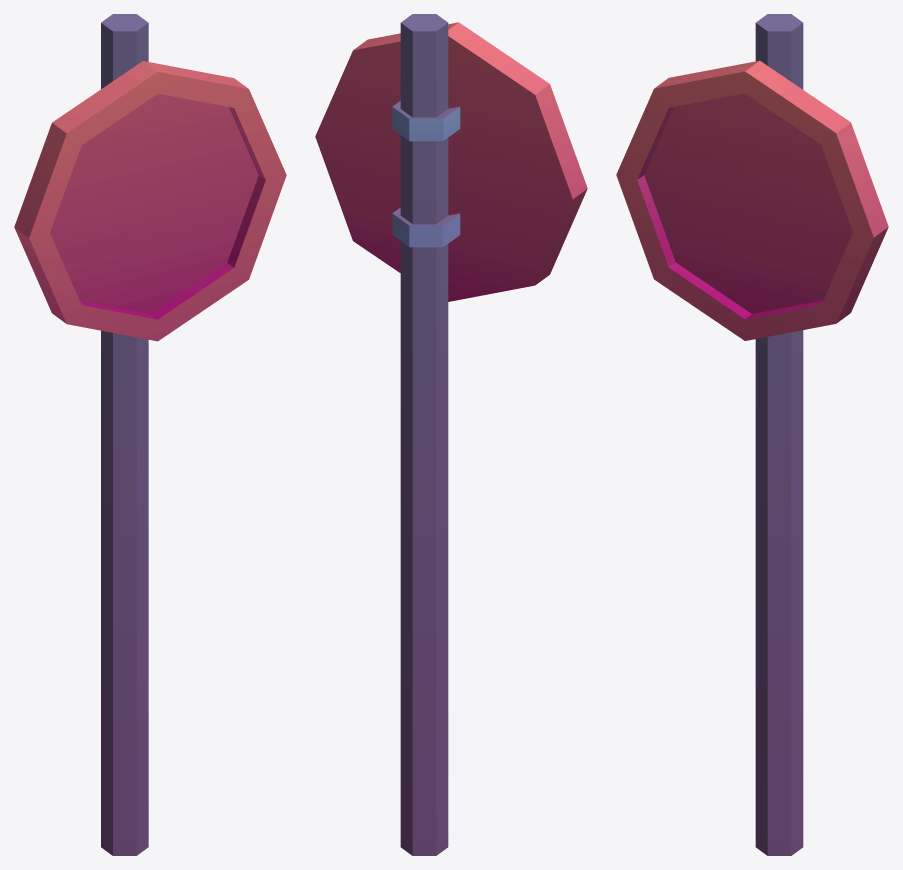
File: sign.obj
3 renders of one model, left to right at view 1: azimuth 30°, elevation 25°; view 2: azimuth 150°, elevation 25°; view 3: azimuth 330°, elevation 25°, orthographic.
Visible parts, largest first — view 1: sign; view 2: sign; view 3: sign.
Part boxes in pixels (bbox=[...]): sign: bbox=[14, 14, 286, 855]; sign: bbox=[315, 14, 587, 855]; sign: bbox=[616, 14, 888, 855].
Bounding box in the file's own units: 3.88 × 11.87 × 1.28.
Materials: 1 (1 with a texture image).
